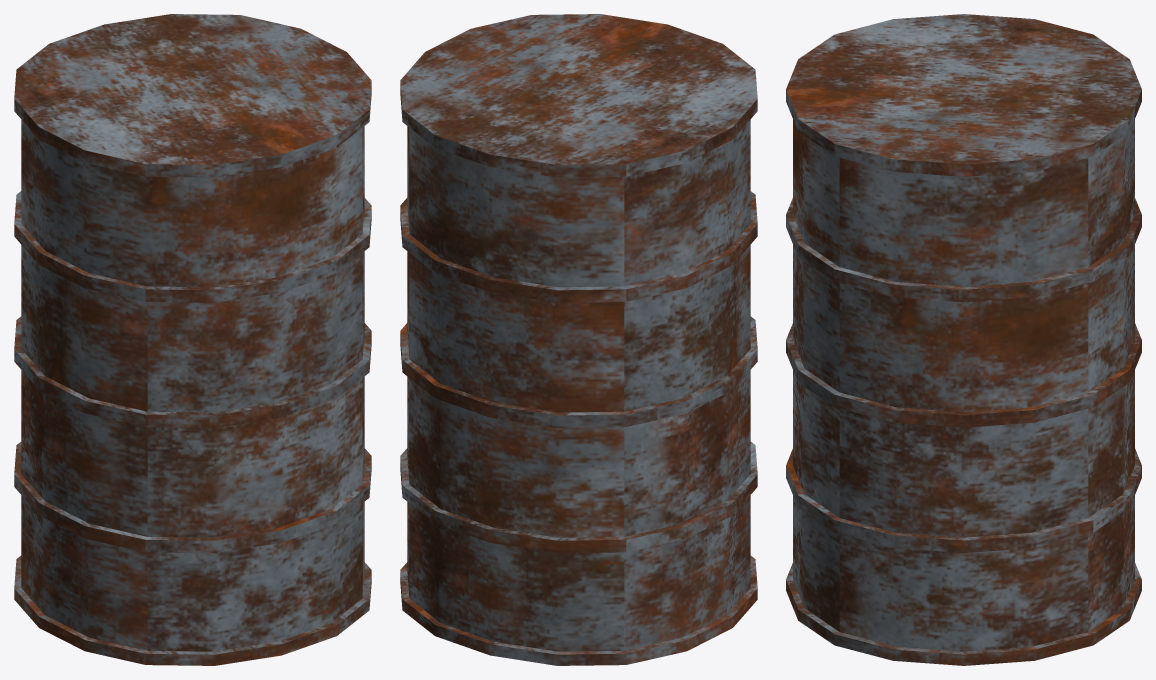
File: bARREL (18).fbx
The picture shows the model from 3 angles, left to right: view 1: azimuth 30°, elevation 25°; view 2: azimuth 150°, elevation 25°; view 3: azimuth 270°, elevation 25°; orthographic projection.
Parts seen in each view (by area): view 1: bARREL__18_; view 2: bARREL__18_; view 3: bARREL__18_.
Part boxes in pixels (<box>): bARREL__18_: <box>14,14,371,665</box>; bARREL__18_: <box>400,14,757,665</box>; bARREL__18_: <box>786,14,1141,665</box>.
Bounding box in the file's own units: 49.05 × 76.27 × 49.05.
